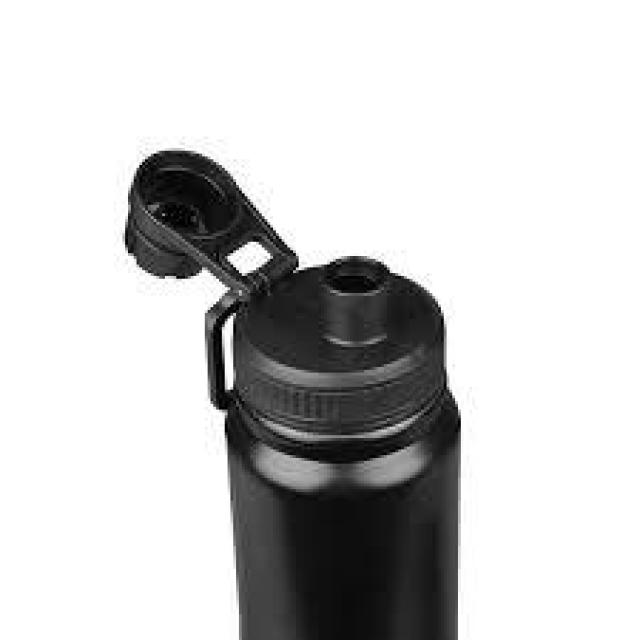bottle: (125, 148, 458, 640)
